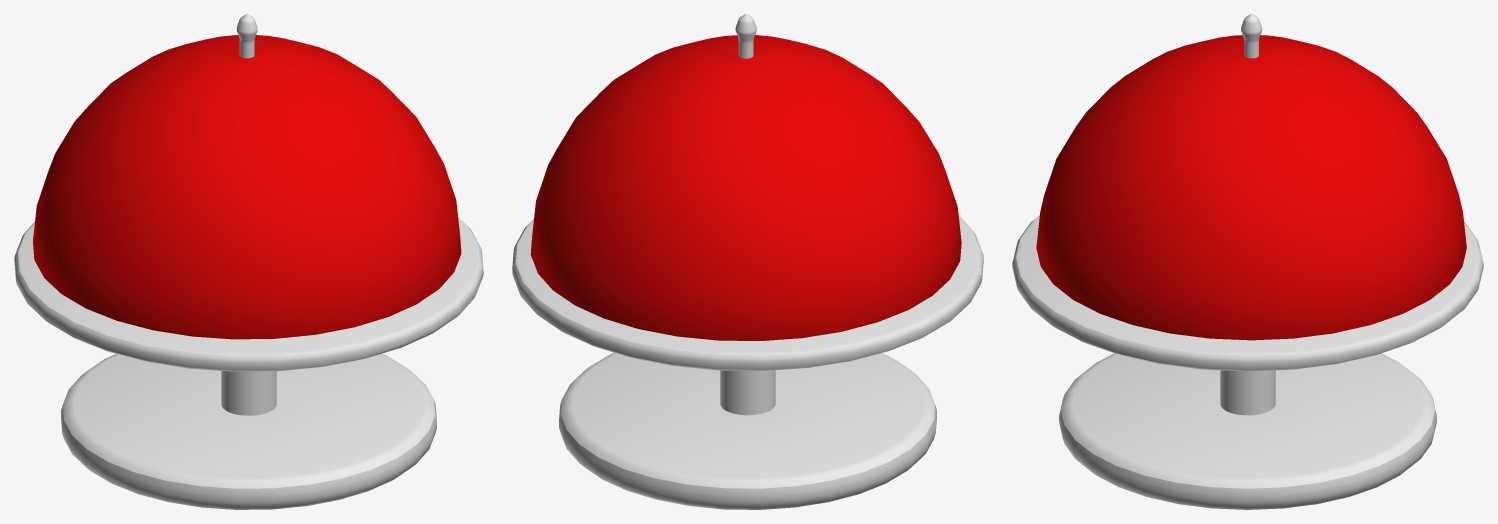
File: GlassDome.fbx
3 renders of one model, left to right at view 1: azimuth 30°, elevation 25°; view 2: azimuth 150°, elevation 25°; view 3: azimuth 270°, elevation 25°, orthographic.
Visible parts, largest first — view 1: SM_GlassDome; view 2: SM_GlassDome; view 3: SM_GlassDome.
Boxes of the visible parts, bbox=[...] form: SM_GlassDome: bbox=[14, 14, 483, 509]; SM_GlassDome: bbox=[512, 14, 983, 509]; SM_GlassDome: bbox=[1012, 14, 1483, 509].
Bounding box in the file's own units: 21.96 × 21.6 × 21.96.
